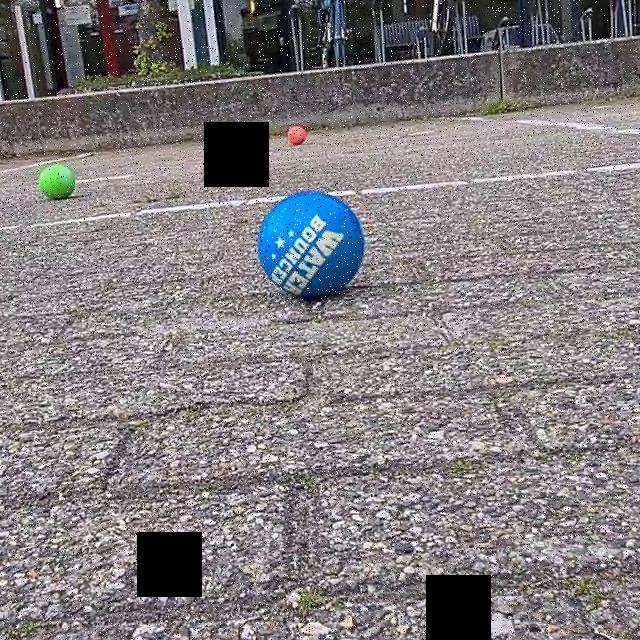ball: (36, 160, 78, 203), (284, 119, 309, 149)
